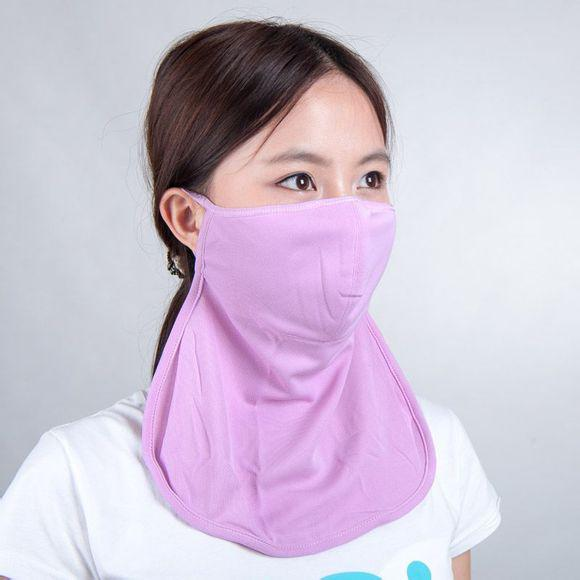OK: (199, 146, 404, 334)
